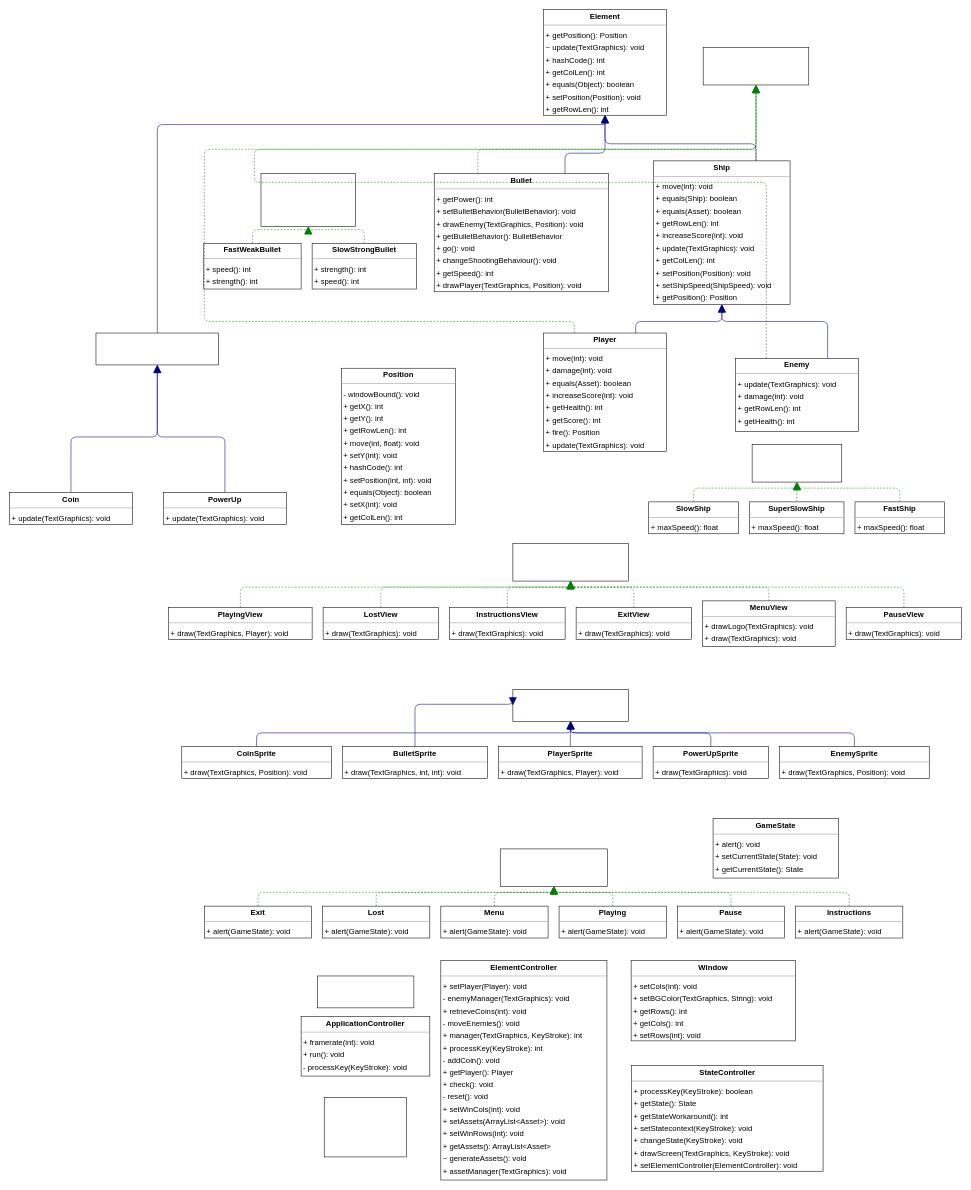
This 971x1190 diagram has some shape labels left out. The centre of each missing label's shape, as x and y in pixels:
"<<interface>> BulletBehavior + strength(): int + speed(): int" belongs at point 308,199.
"<<interface>> DynamicElement + move(Position): void" belongs at point 756,66.
"<<interface>> ShipSpeed + maxSpeed(): float" belongs at point 797,463.
"<<interface>> State + alert(GameState): void" belongs at point 553,867.
"<<interface>> View + draw(TextGraphics): void" belongs at point 570,562.
"Asset + update(TextGraphics): void" belongs at point 157,348.
"AudioPlayer + play(): void + pause(): void + stop(): void" belongs at point 365,1127.
"ElementSprite + draw(TextGraphics): void" belongs at point 570,705.
"Main + main(String[]): void" belongs at point 365,991.
